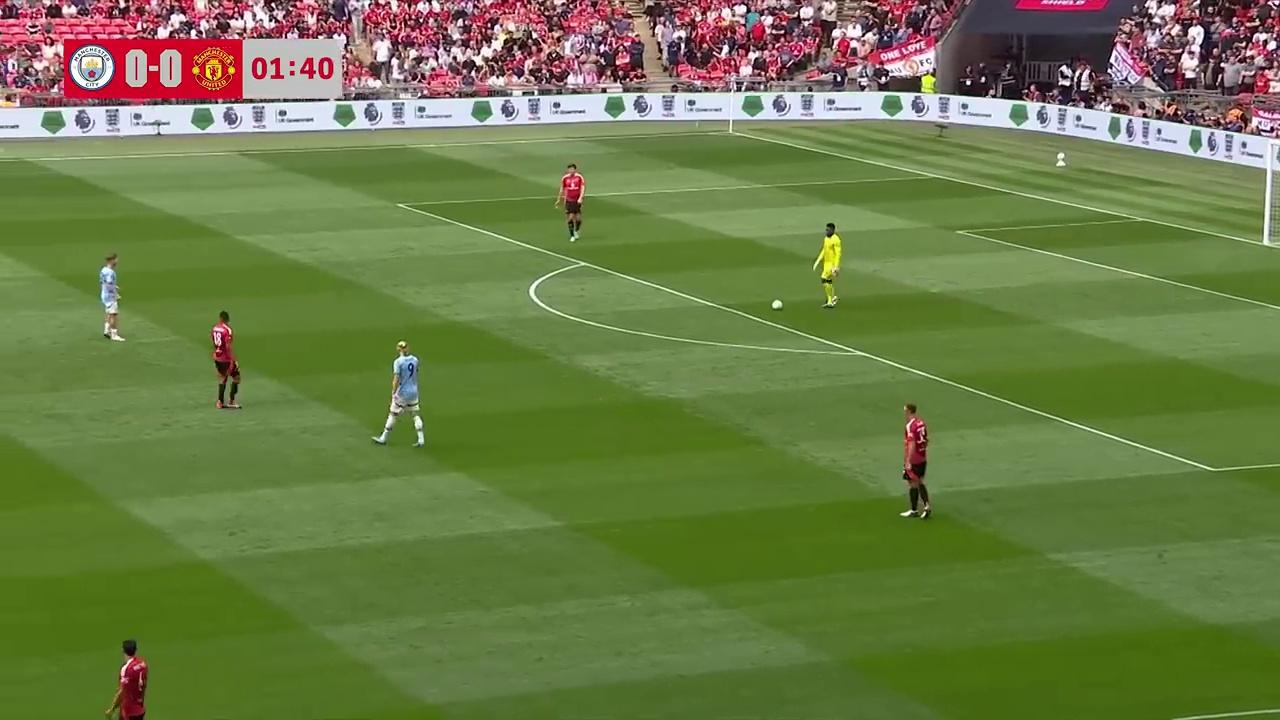ball: (769, 297, 784, 310)
player: (373, 341, 425, 447), (104, 638, 148, 720), (901, 403, 930, 519), (210, 311, 241, 409), (813, 222, 841, 308), (555, 163, 585, 240), (99, 253, 124, 341)
